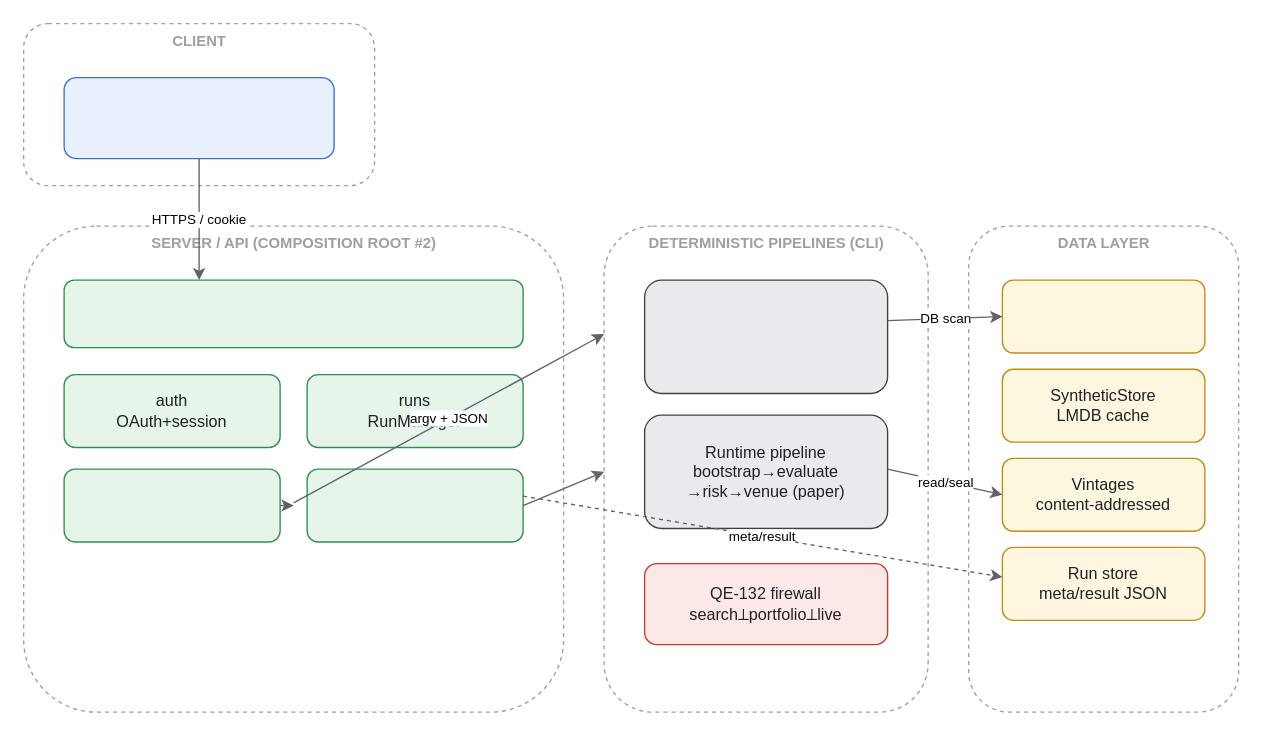
Image size: 1262x736. Some labels were removed from this diagram. The centre of each missing label's shape, as x and y in pixels:
"Admin SPA (browser) React 19 · same-origin" goes at pixel 198 117.
"axum Router /api + static SPA" goes at pixel 293 313.
"MarketStore LMDB" goes at pixel 1103 316.
"read vintages/coverage" goes at pixel 171 505.
"spawner qe-cli subprocess" goes at pixel 414 505.
"Training pipeline signal→wfo→ensemble →validation→G1→vintage" goes at pixel 765 336.
